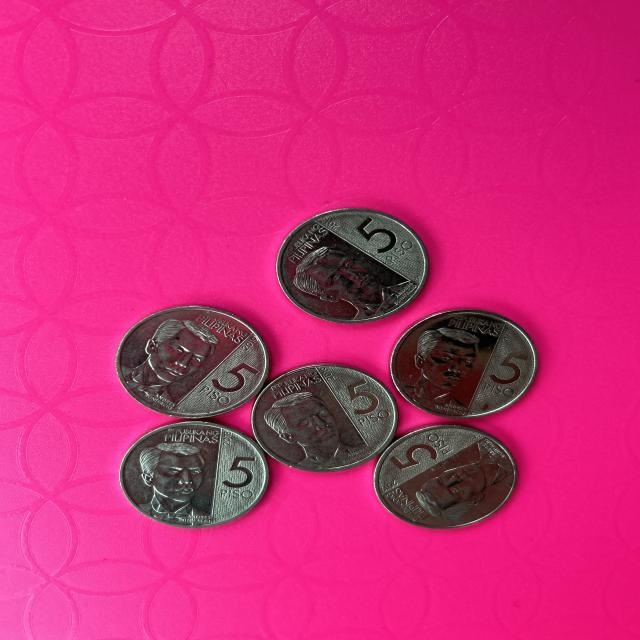5_New_Front: (327, 369, 390, 432), (346, 212, 411, 272), (478, 342, 533, 410), (383, 430, 456, 480), (218, 451, 271, 510), (204, 354, 259, 406)
